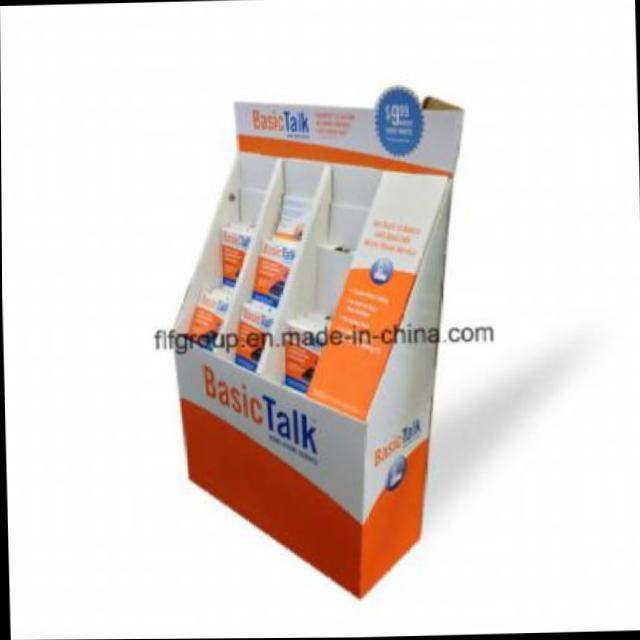box: (156, 76, 480, 608)
